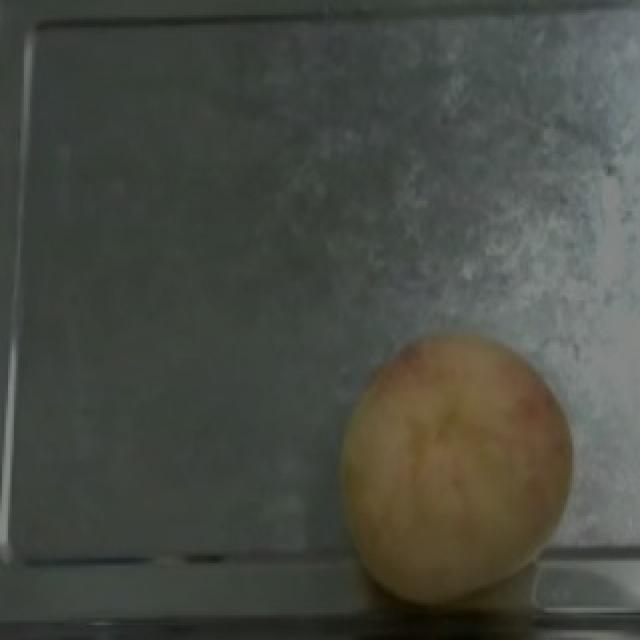Fruit: (320, 315, 588, 618)
